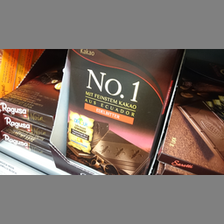chocolate: (67, 49, 174, 176)
